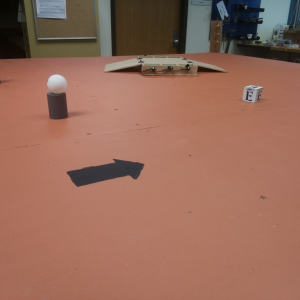blockE: (242, 86, 264, 104)
corner: (210, 20, 224, 55)
obstacle: (46, 75, 70, 121)
side: (140, 65, 198, 78)
slope: (191, 58, 229, 76), (103, 57, 139, 75)
start: (66, 156, 145, 192)
